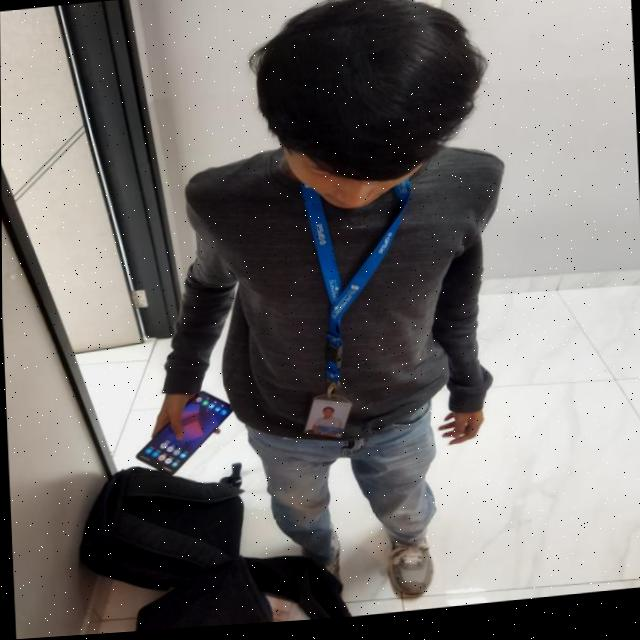id_card: (282, 182, 435, 462)
